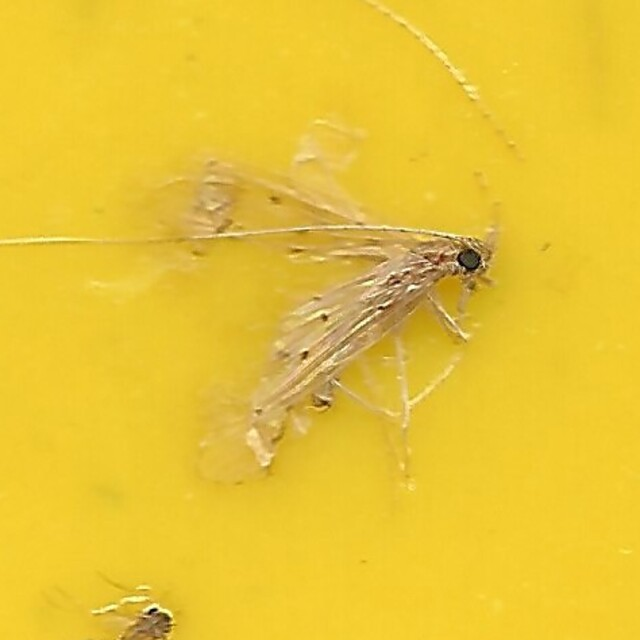Trichoptera: (135, 142, 505, 498)
